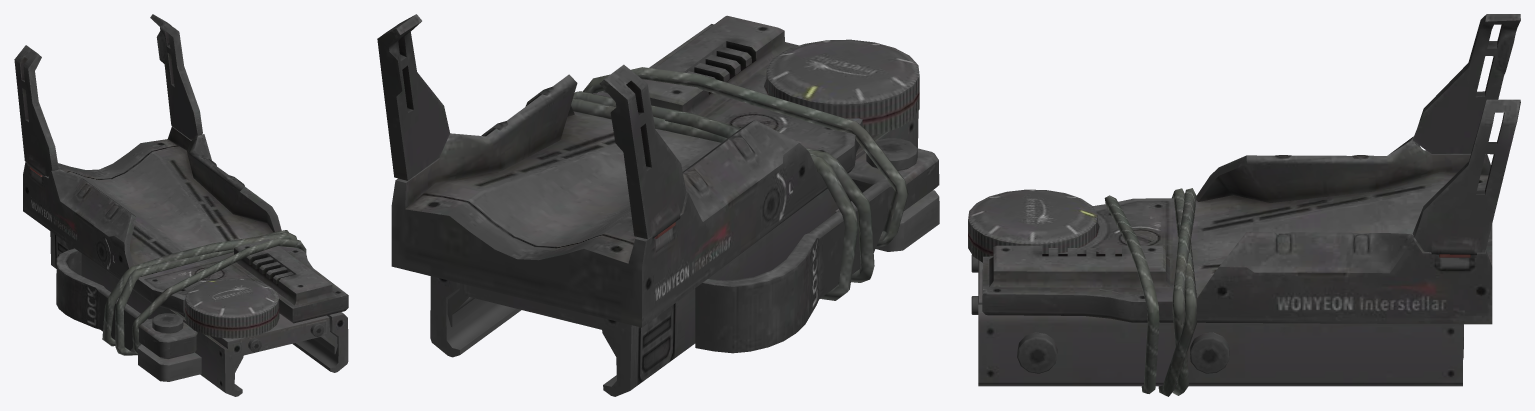
File: apexopt_hcog_og.glb
The picture shows the model from 3 angles, left to right: view 1: azimuth 30°, elevation 25°; view 2: azimuth 150°, elevation 25°; view 3: azimuth 270°, elevation 25°; orthographic projection. The views are drawn at different scales.
Parts seen in each view (by area): view 1: opt__tex_apexopt_hcog_og_0; view 2: opt__tex_apexopt_hcog_og_0; view 3: opt__tex_apexopt_hcog_og_0.
Boxes of the visible parts, bbox=[...] form: opt__tex_apexopt_hcog_og_0: bbox=[14, 14, 348, 396]; opt__tex_apexopt_hcog_og_0: bbox=[377, 14, 939, 396]; opt__tex_apexopt_hcog_og_0: bbox=[968, 14, 1520, 396].
Bounding box in the file's own units: 0.0491 × 0.0553 × 0.0906.
Materials: 1 (1 with a texture image).
